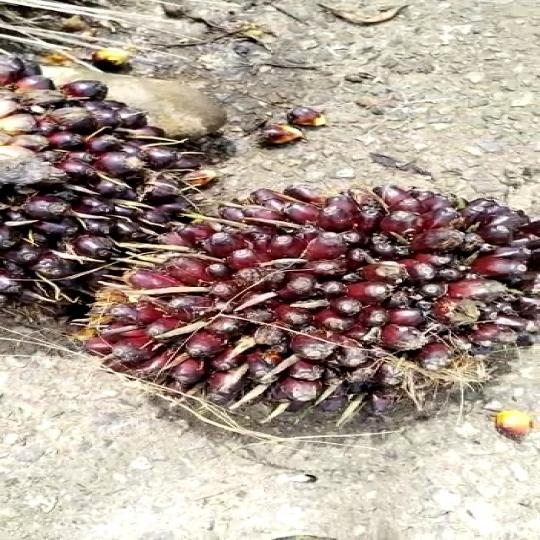mentah: (102, 174, 540, 435), (1, 48, 176, 332)
